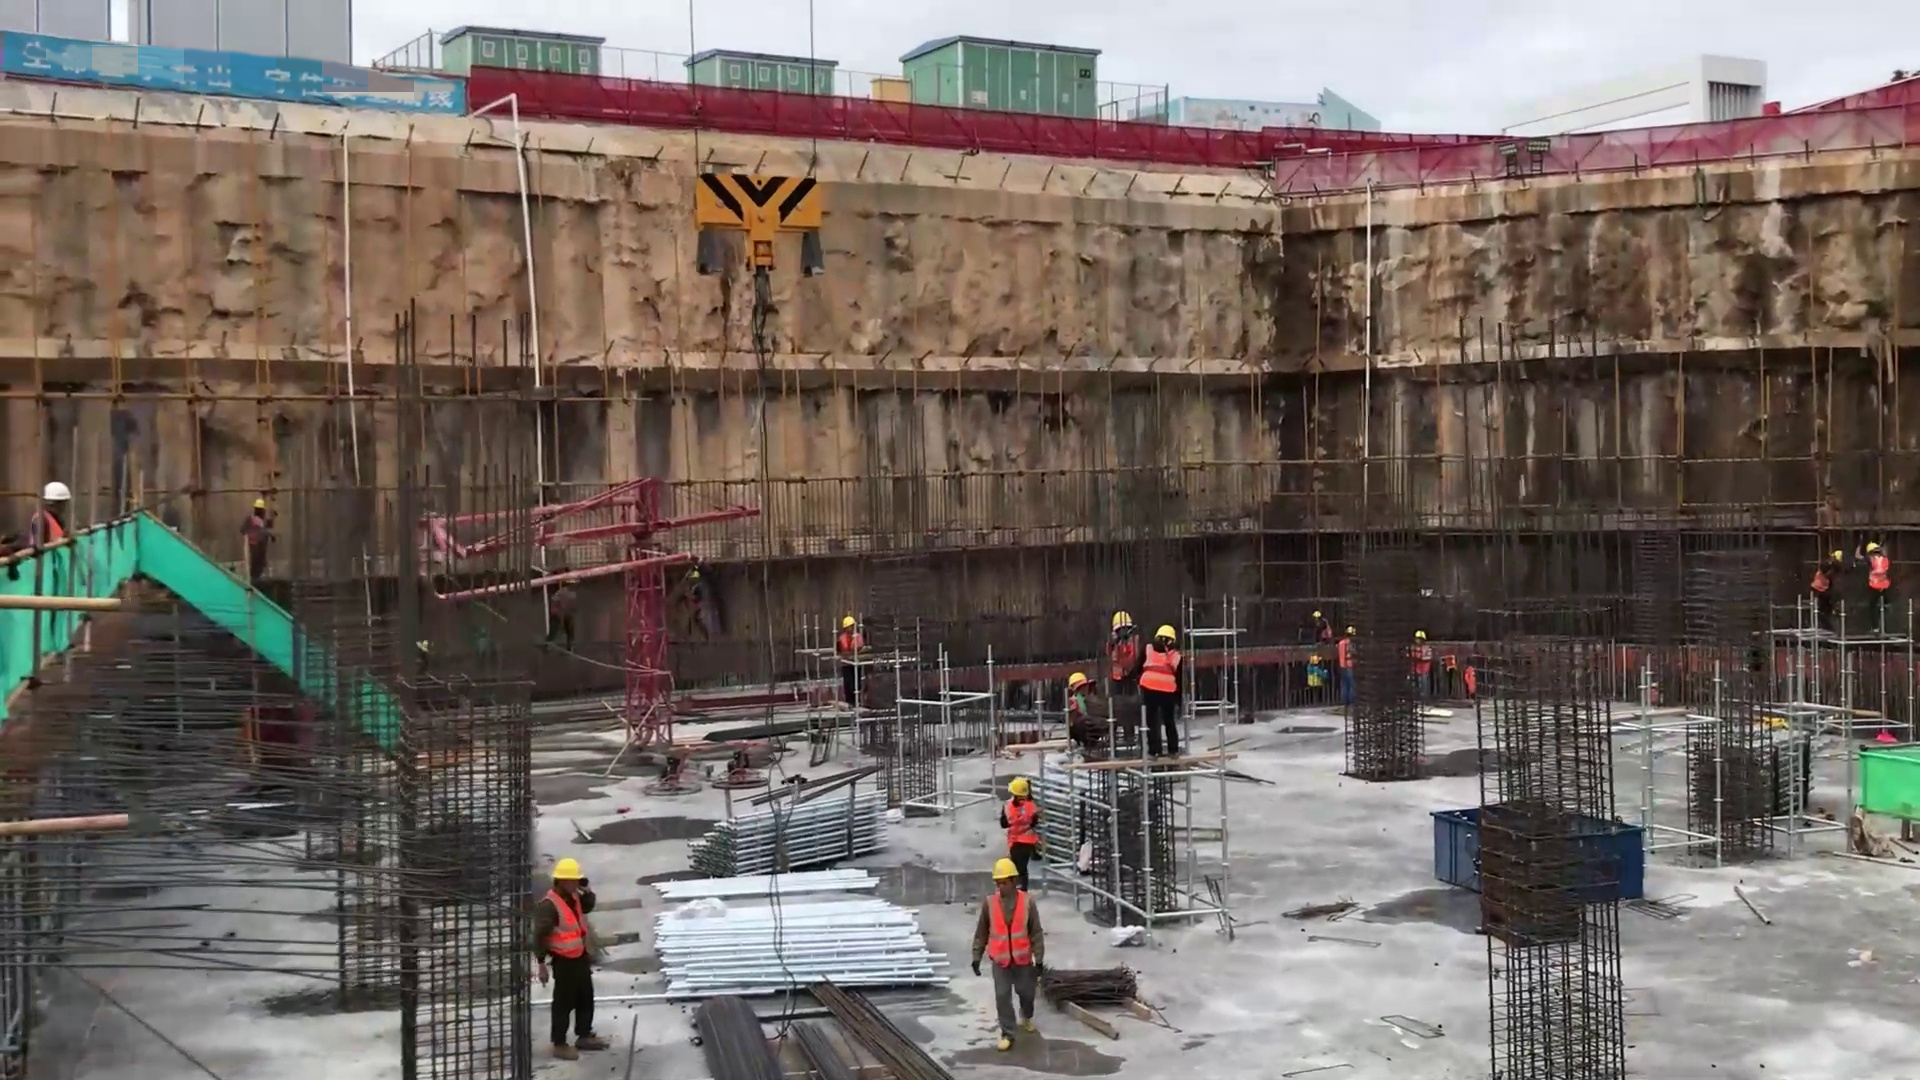helmet: (547, 846, 588, 883), (1109, 596, 1147, 634), (994, 856, 1031, 883), (36, 476, 78, 500), (1067, 664, 1093, 700), (1154, 619, 1175, 639)
person: (966, 849, 1055, 1041), (531, 853, 619, 1047), (1140, 622, 1190, 743), (1004, 766, 1051, 885), (1856, 541, 1897, 633), (831, 610, 869, 695), (1398, 622, 1438, 699), (1804, 541, 1844, 614), (1111, 607, 1144, 684), (1340, 618, 1370, 699)
vest: (983, 885, 1042, 969), (536, 884, 597, 961), (1144, 630, 1185, 693), (35, 507, 79, 551), (1008, 789, 1039, 847), (1805, 558, 1835, 601), (1870, 545, 1898, 592), (832, 623, 871, 654), (1452, 657, 1481, 693), (1409, 641, 1440, 669), (1336, 641, 1354, 664)
